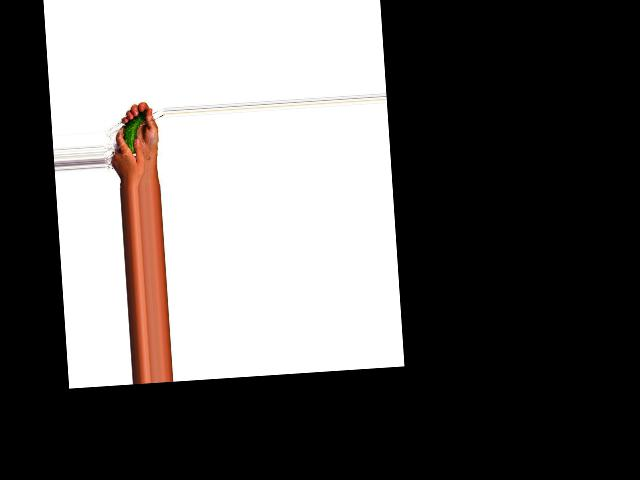cucumber: (121, 109, 148, 155)
